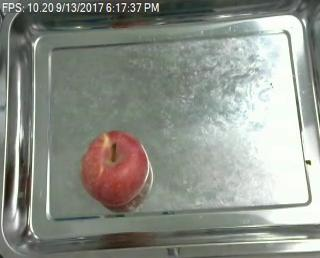apple: (80, 130, 149, 207)
